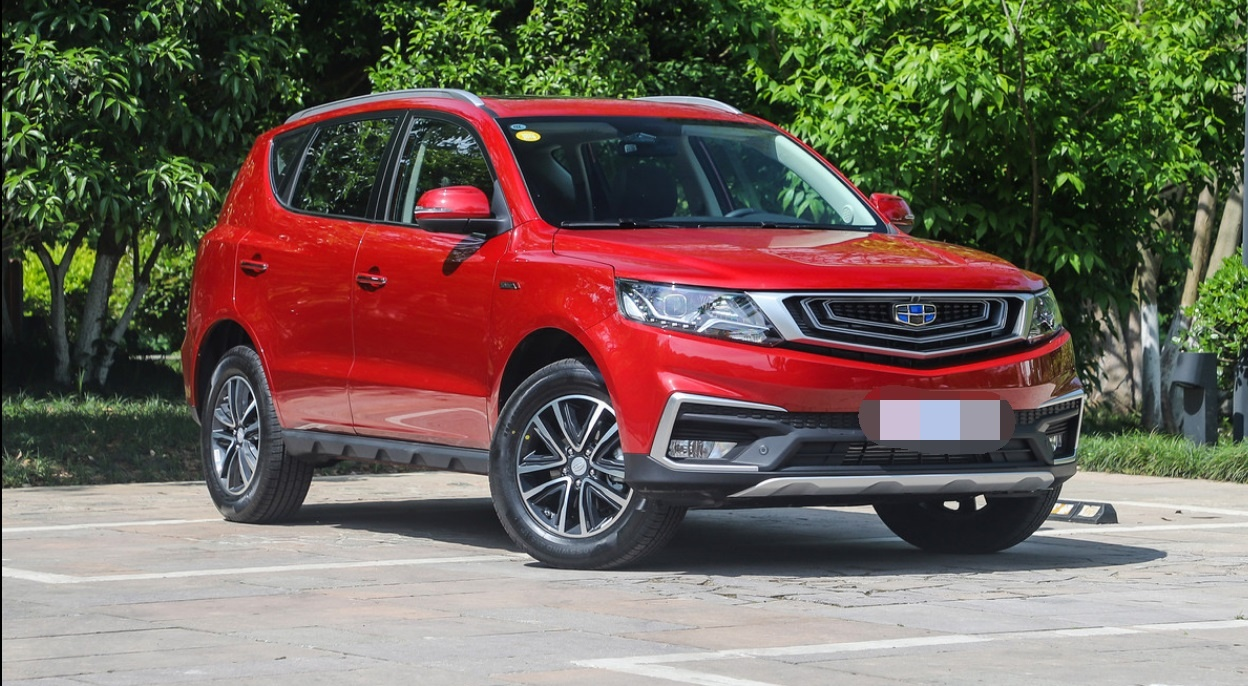SUV: (172, 81, 1073, 558)
